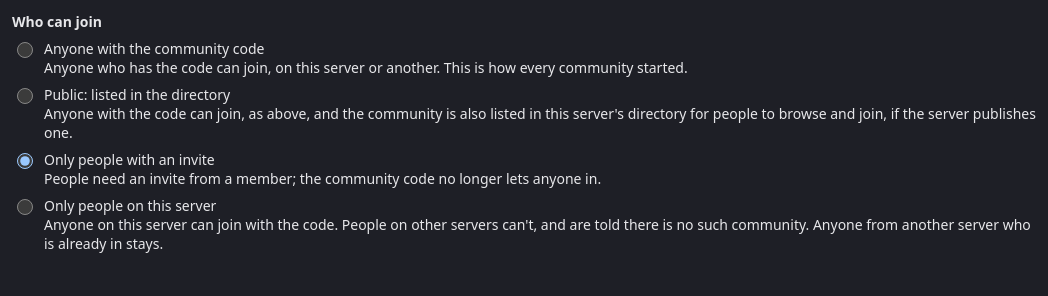
Test: Settings -> General -> Who can join, under a server's limit › says so if the server refuses a choice because of its limit
The image size is (1048, 296).
Click the radio button labelled "Public: listed in the directory" at (25, 96), box [17,88,33,104]
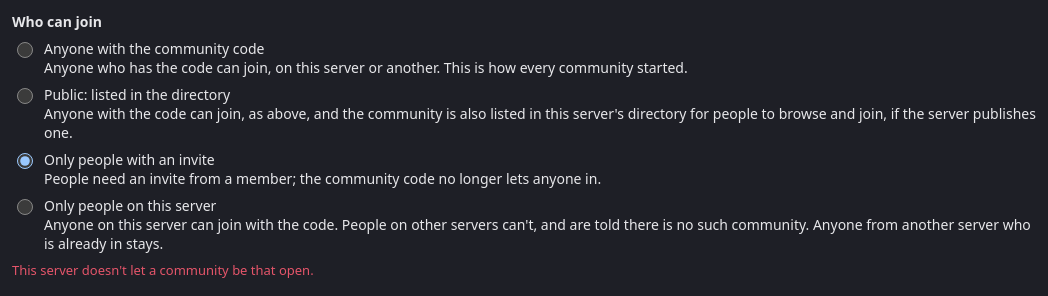
Expected: the message reads "This server doesn't let a community be that open.", [12,261,314,279]
